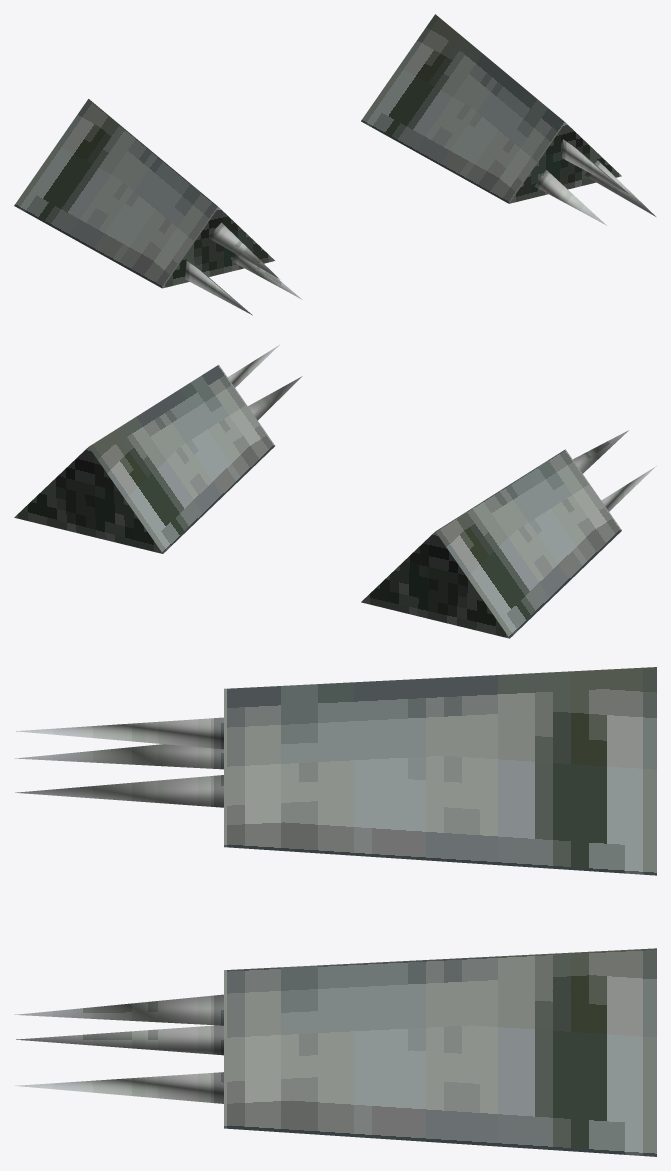
Rendered from ywing_weapon1_s04_l3.fbx.
3 views of the same model, one above another, from view 1: azimuth 30°, elevation 25°; view 2: azimuth 150°, elevation 25°; view 3: azimuth 270°, elevation 25° (orthographic). The views are drawn at different scales.
Parts seen in each view (by area): view 1: mesh_node; view 2: mesh_node; view 3: mesh_node.
Part boxes in pixels (left/top/right/bottom): mesh_node: left=14, top=14, right=655, bottom=315; mesh_node: left=14, top=345, right=656, bottom=638; mesh_node: left=14, top=667, right=656, bottom=1156.
Bounding box in the file's own units: 1.6 × 0.2755 × 1.08.
1 material, 1 textured.
